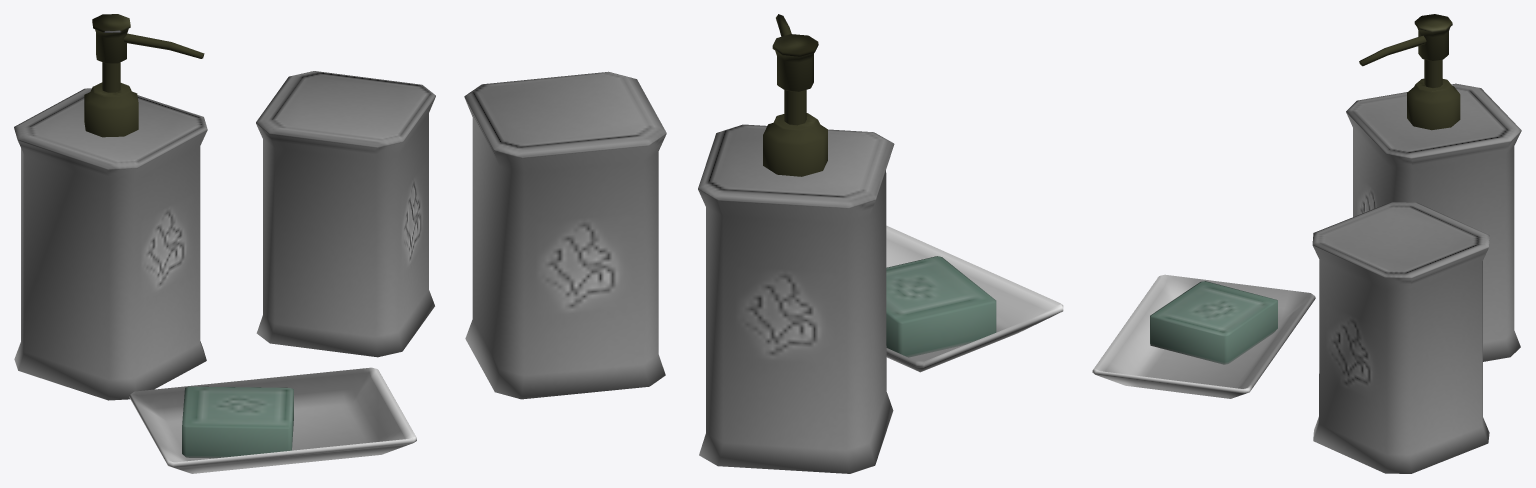
The model's file is BathProps_3.fbx.
3 views of the same model, side by side, from view 1: azimuth 30°, elevation 25°; view 2: azimuth 150°, elevation 25°; view 3: azimuth 270°, elevation 25° (orthographic). The views are drawn at different scales.
Parts seen in each view (by area): view 1: BathProps_3; view 2: BathProps_3; view 3: BathProps_3.
Part boxes in pixels (<box>): BathProps_3: <box>14,14,435,473</box>; BathProps_3: <box>464,14,1063,473</box>; BathProps_3: <box>1092,14,1521,473</box>.
Size of the model in its own units: 0.2521 by 0.2101 by 0.2587.
